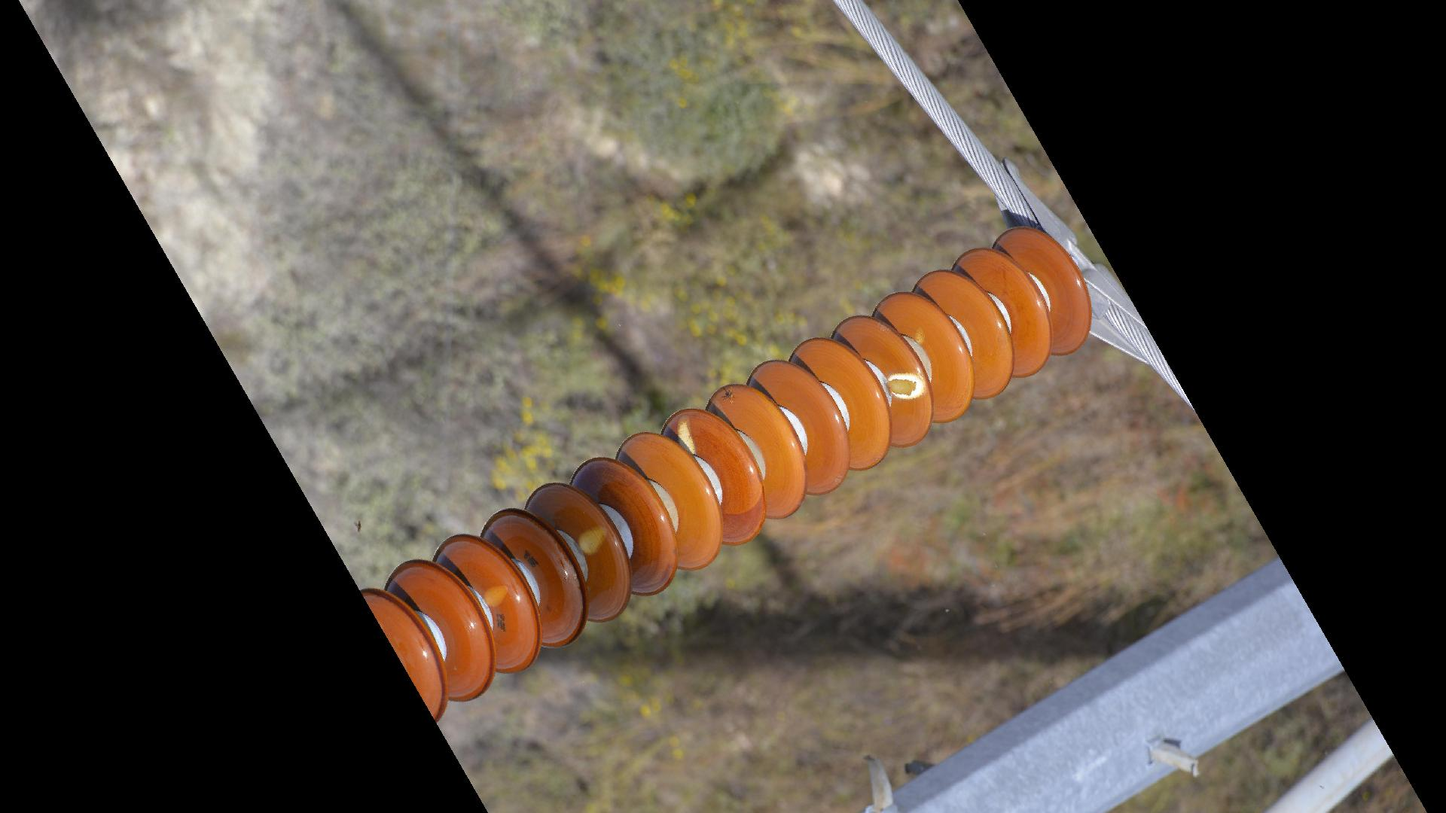insulator: (358, 220, 1097, 727)
insulator_flashover: (883, 370, 928, 403), (573, 523, 610, 559), (675, 412, 697, 457), (480, 581, 511, 610)
